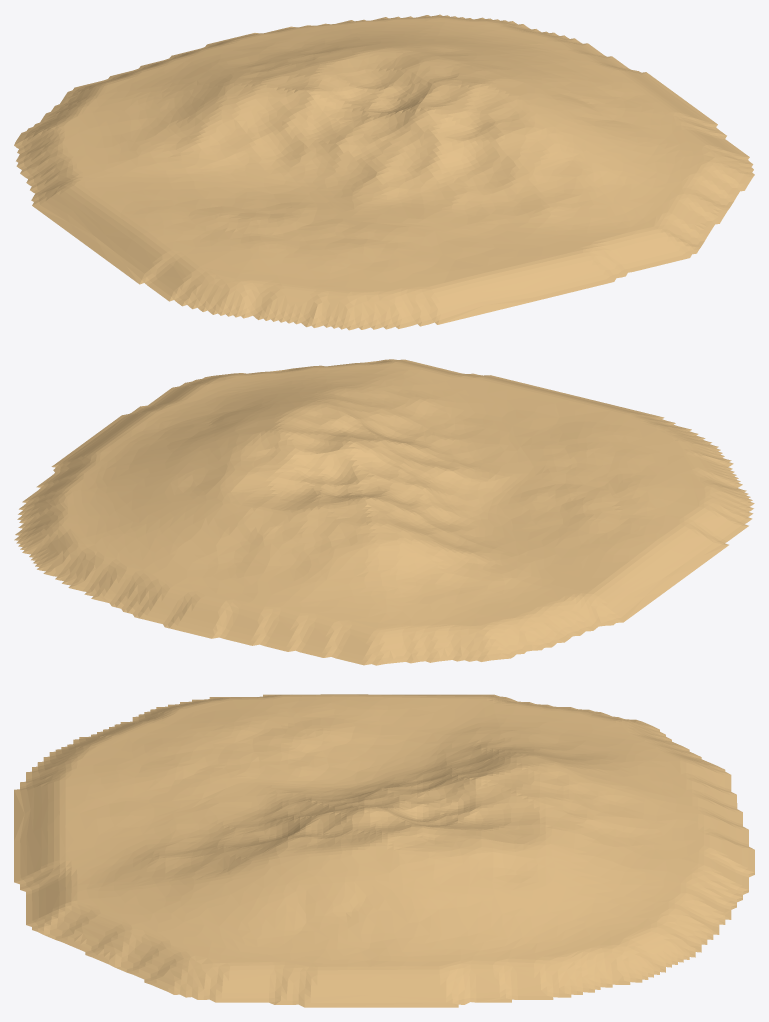
File: MT_Island_L_f_07_LOD.fbx
3 renders of one model, top to bottom at view 1: azimuth 30°, elevation 25°; view 2: azimuth 150°, elevation 25°; view 3: azimuth 270°, elevation 25°, orthographic. The views are drawn at different scales.
Visible parts, largest first — view 1: MT_Island_L_f_07_LOD0; view 2: MT_Island_L_f_07_LOD0; view 3: MT_Island_L_f_07_LOD0.
Part boxes in pixels (<box>): MT_Island_L_f_07_LOD0: <box>14,14,754,330</box>; MT_Island_L_f_07_LOD0: <box>14,359,754,665</box>; MT_Island_L_f_07_LOD0: <box>14,694,754,1007</box>.
Size of what is drawn, in the model's own units: 19925 by 1935 by 19929.
